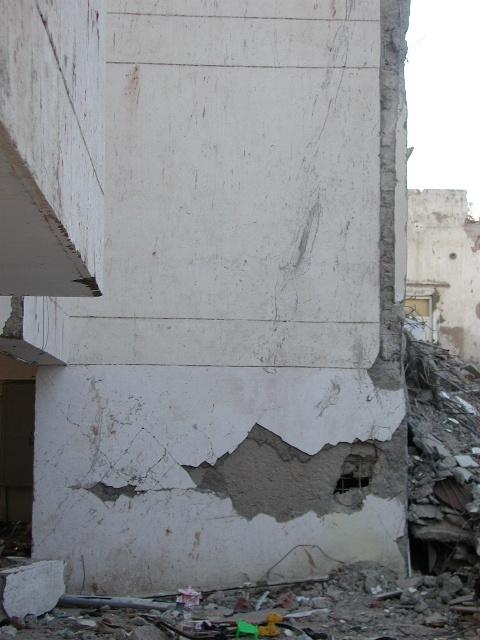spalling: (184, 424, 403, 522), (88, 482, 138, 501)
